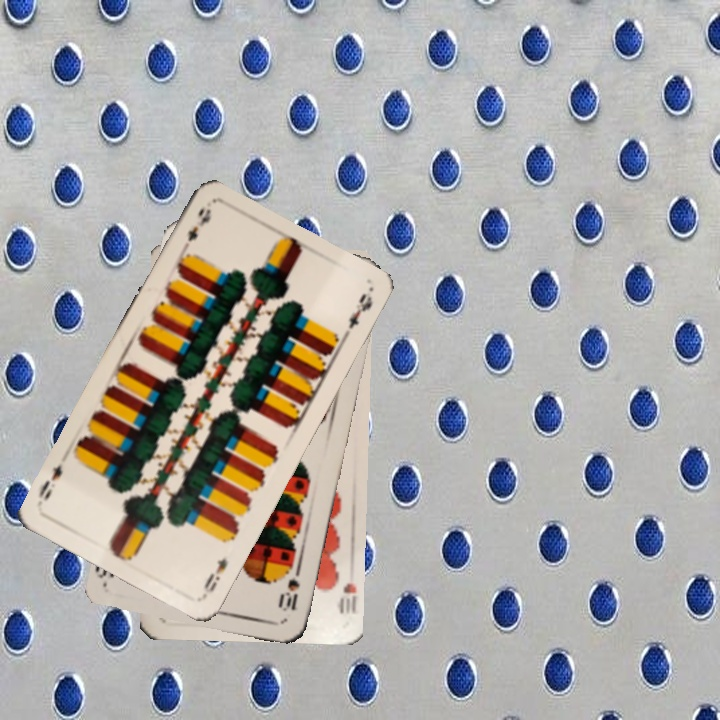E9: (177, 203, 214, 259), (199, 553, 230, 598)
H10: (333, 579, 358, 616)
S10: (277, 562, 304, 614)
